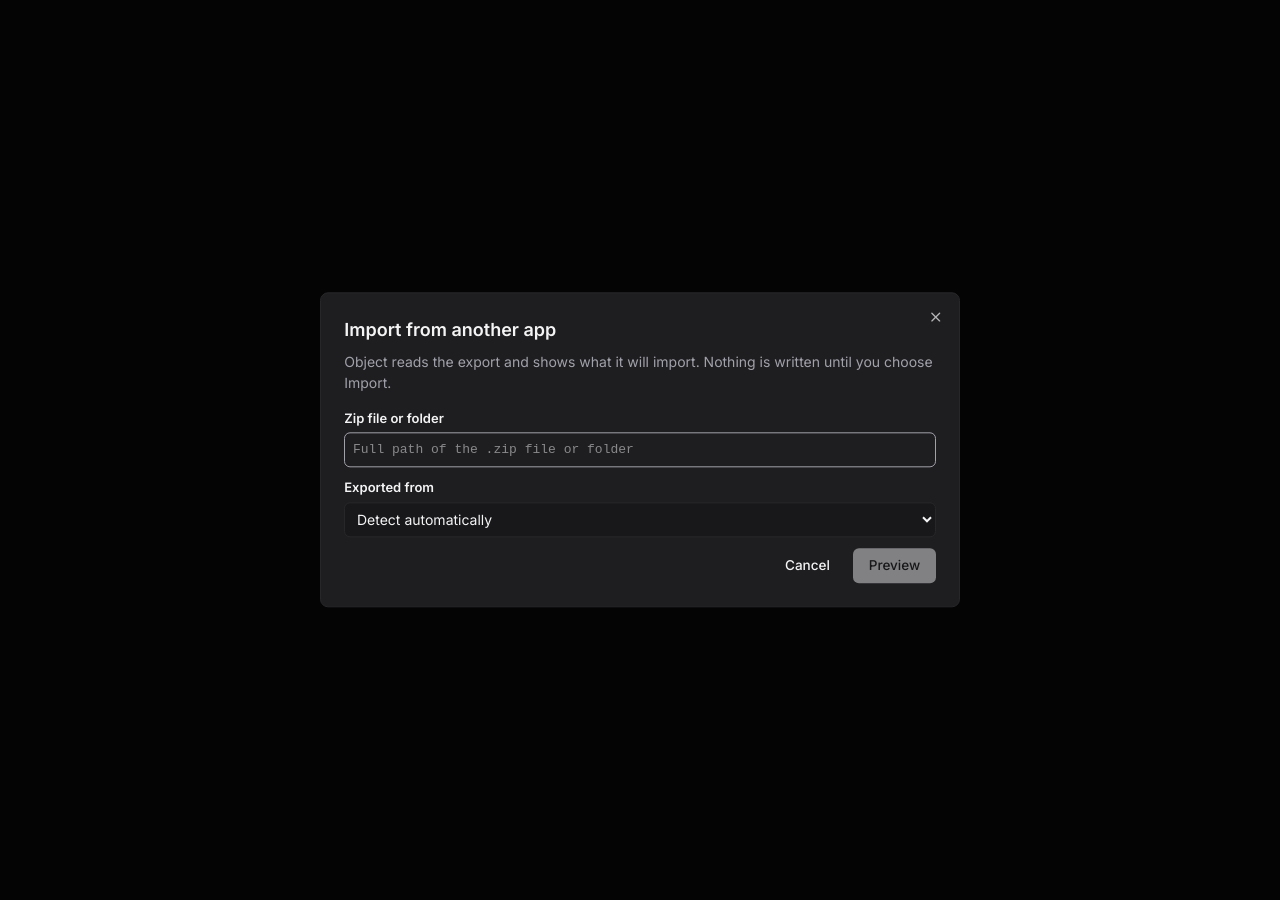
Test: ImportDialog: source and preview › test a missing path and an unreadable file show our messages and stay on the source step
Expected: the dialog "Import from another app" is shown, [320,292,960,608]
Type "/nope" into the field labelled "Zip file or folder" at (640,450), box [344,432,936,467]
Then press Enter
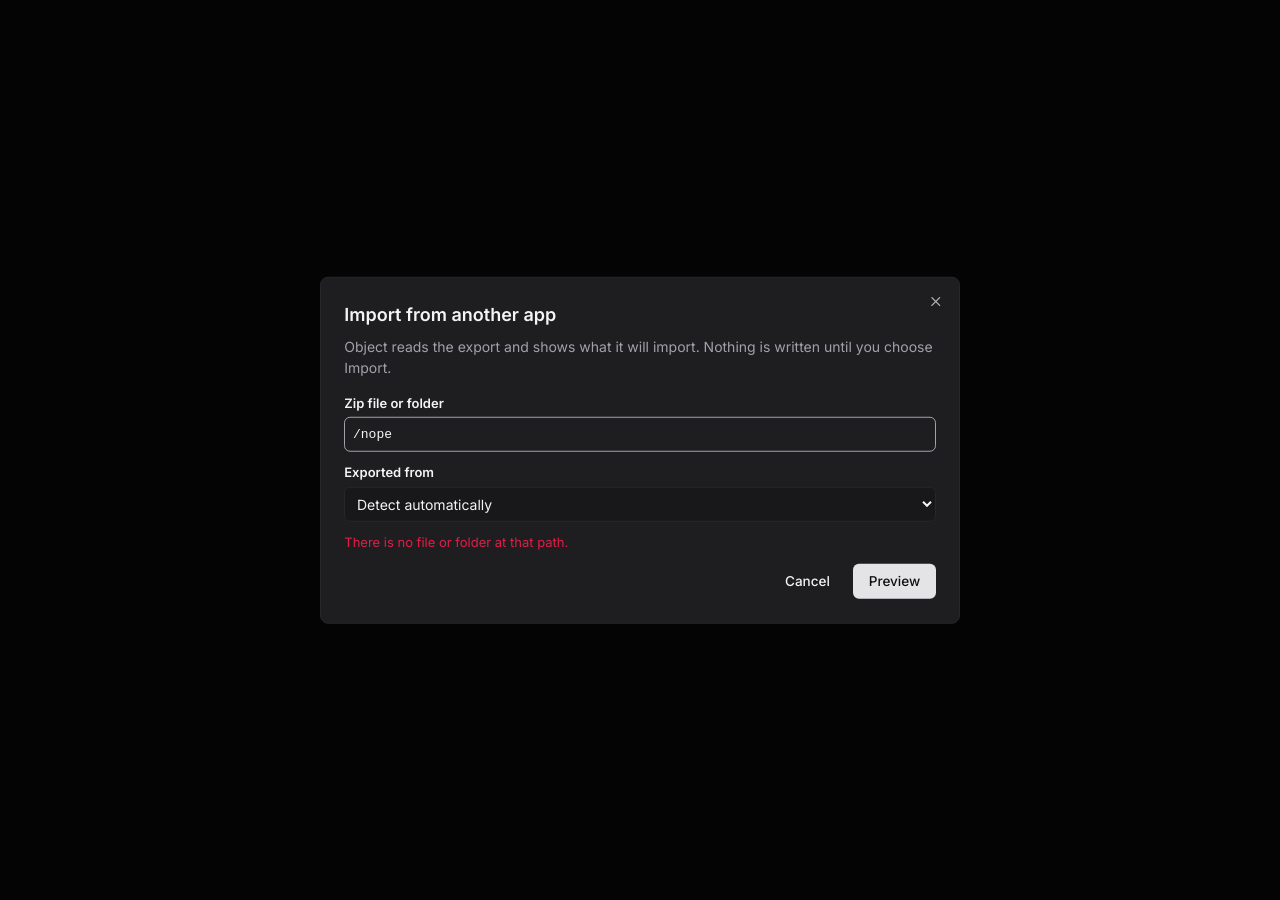
Expected: the message reads "There is no file or folder at that path.", [344,534,568,550]
Click the button "Preview" at (894,582), box [853,564,936,599]
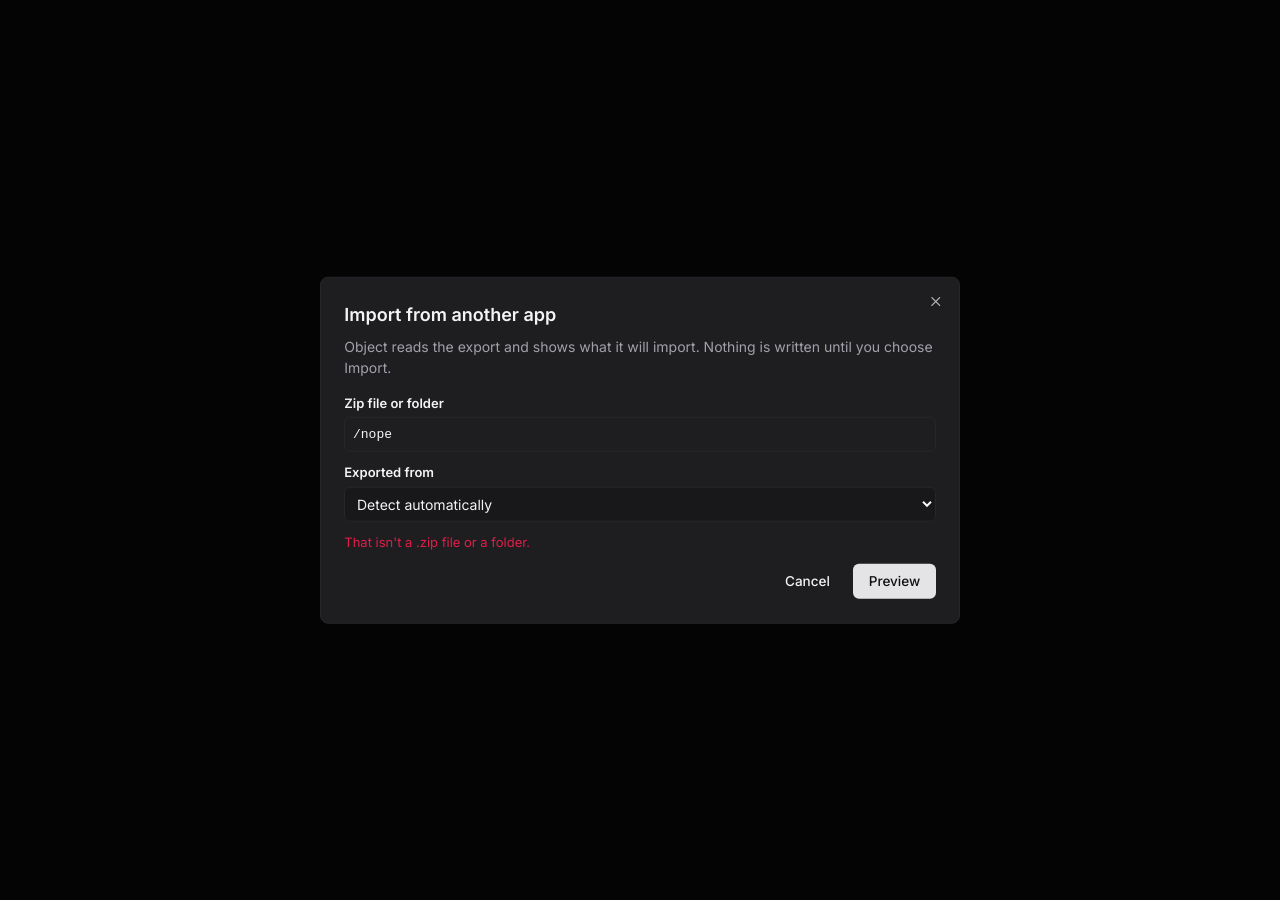
Expected: the message reads "That isn't a .zip file or a folder.", [344,534,530,550]
